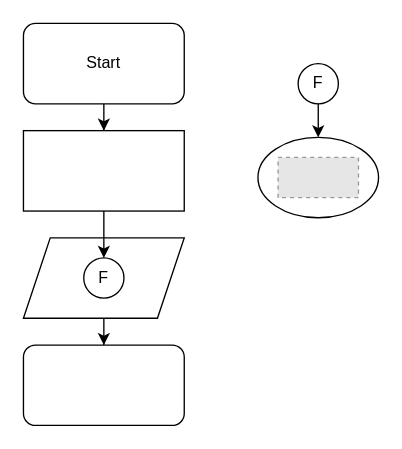
Image size: 402x449. Some labels were removed from this diagram. Grey dashed boxes stand in for pictures. Here are the shapes that lost their labels. From the top down, the centre of each, then its label:
point 103,170: Задання функції alcoholvaluefinder
point 103,384: End
